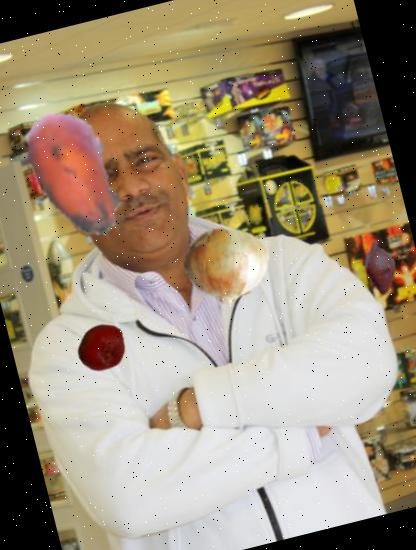Banana: (0, 93, 155, 260)
Nectarine: (72, 317, 134, 379)
Onion: (177, 214, 280, 317)
Salak: (346, 232, 415, 301)
